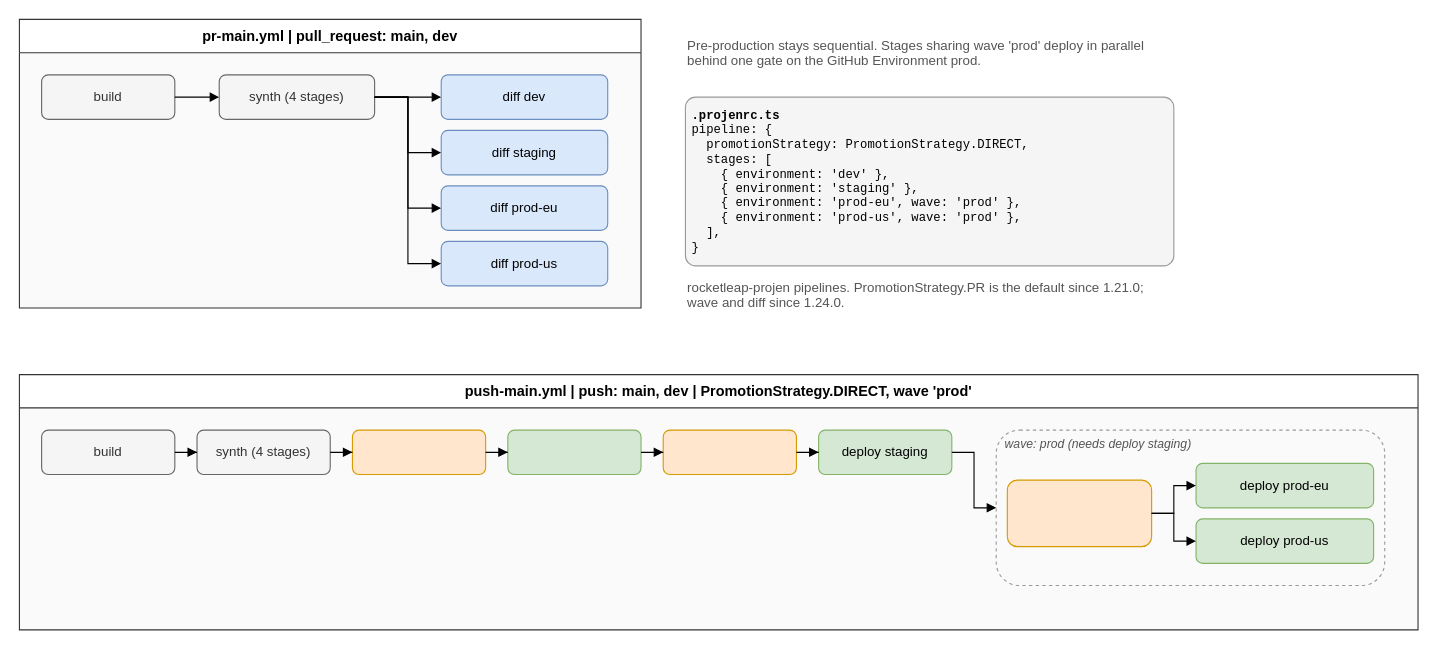
This 1437x649 diagram has some shape labels left out. The shapes that lost their labels are listed below. From the top down, each one's centre as x and y in pixels, then its label:
At point 418,452: "gate dev".
At point 574,452: "deploy dev".
At point 729,452: "gate staging".
At point 1079,513: "gate prod (Environment: prod)".
